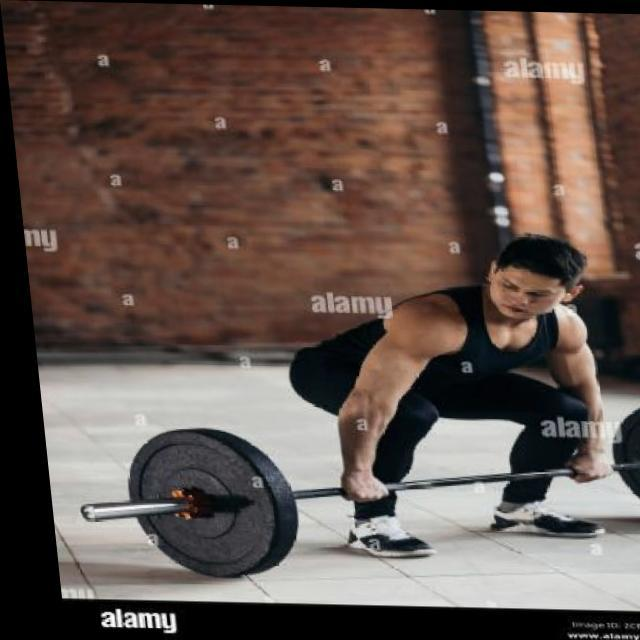barbell: (48, 422, 279, 587)
